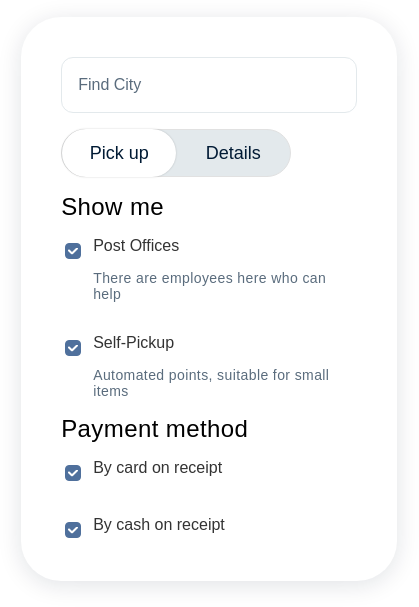
Test case: Map › toggles activeTab in MapMenu
Check: the element with test id "map-pickup" is shown, box [61,193,357,541]
Click the element with test id "map-toggle".
click(176, 153)  # box [61,129,291,177]
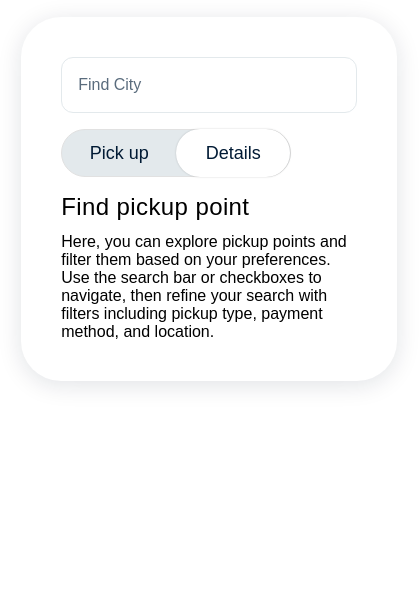
Check: the element with test id "map-details" is shown, box [61,193,357,341]
